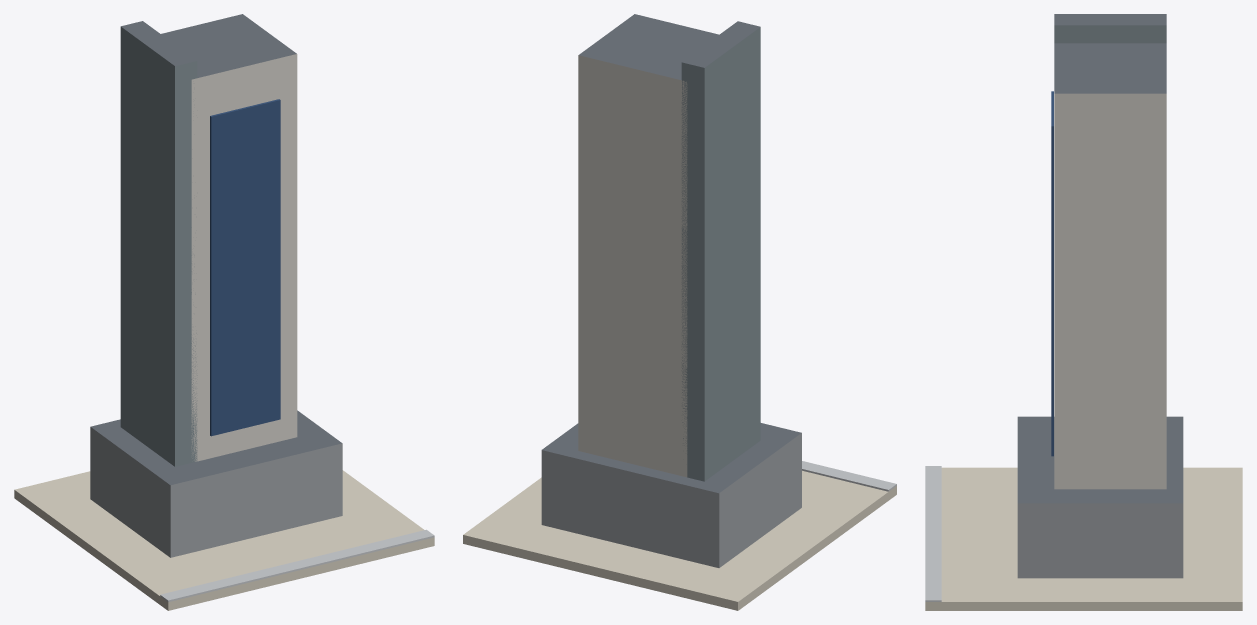
The picture shows the model from 3 angles, left to right: view 1: azimuth 30°, elevation 25°; view 2: azimuth 150°, elevation 25°; view 3: azimuth 270°, elevation 25°; orthographic projection. The views are drawn at different scales.
Visible parts, largest first — view 1: b07_v2_lod2; view 2: b07_v2_lod2; view 3: b07_v2_lod2.
Boxes of the visible parts, bbox=[...] form: b07_v2_lod2: bbox=[14, 14, 434, 610]; b07_v2_lod2: bbox=[463, 14, 896, 610]; b07_v2_lod2: bbox=[925, 14, 1242, 610].
Size of the model in its own units: 0.96 by 1.66 by 0.96.
